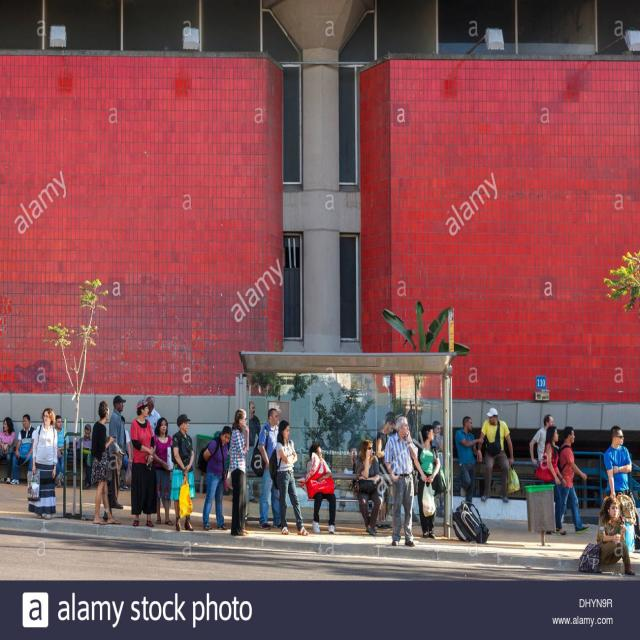body: (294, 444, 368, 512), (268, 418, 309, 536), (603, 425, 640, 550), (383, 415, 418, 547), (90, 400, 122, 526), (553, 426, 590, 534), (413, 423, 447, 539), (26, 407, 59, 520), (197, 424, 232, 530), (476, 406, 514, 503), (591, 495, 636, 576), (258, 408, 285, 529), (349, 438, 382, 536), (130, 398, 155, 527), (170, 412, 196, 531), (540, 425, 567, 536), (306, 443, 336, 534), (455, 416, 484, 510), (230, 406, 250, 537), (152, 417, 174, 528), (376, 415, 397, 530), (108, 395, 126, 509), (10, 414, 36, 484), (246, 399, 261, 504), (529, 414, 554, 468), (75, 422, 94, 490), (0, 416, 16, 485), (54, 414, 70, 479), (120, 414, 133, 490), (144, 395, 162, 435), (430, 420, 444, 468), (384, 484, 394, 526), (384, 407, 397, 438), (411, 494, 419, 526)
